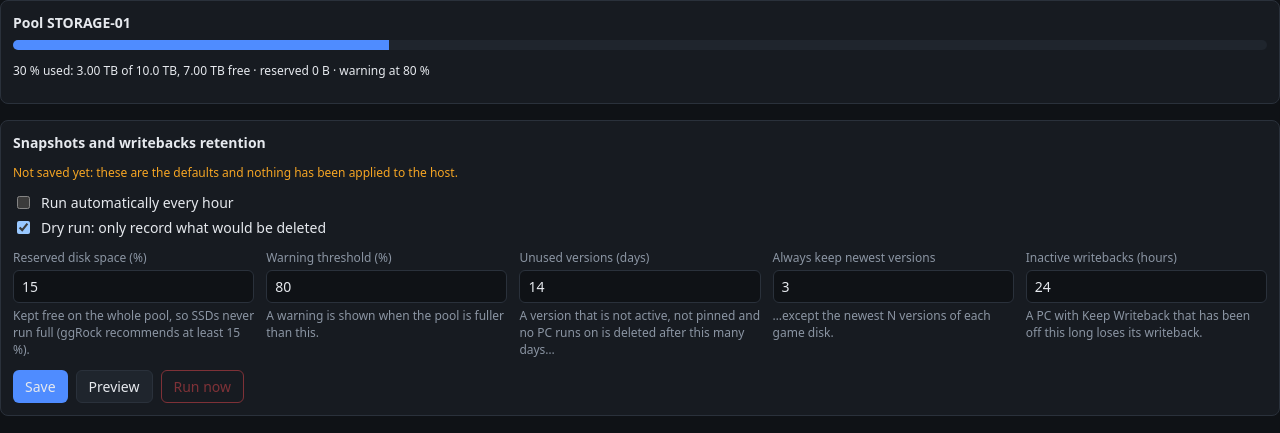
Test: SettingsPage › asks before reserving pool space and saves
The width and height of the screenshot is (1280, 433).
Click the checkbox labelled "Run automatically every hour" at point(24, 202), box [17,196,30,209]
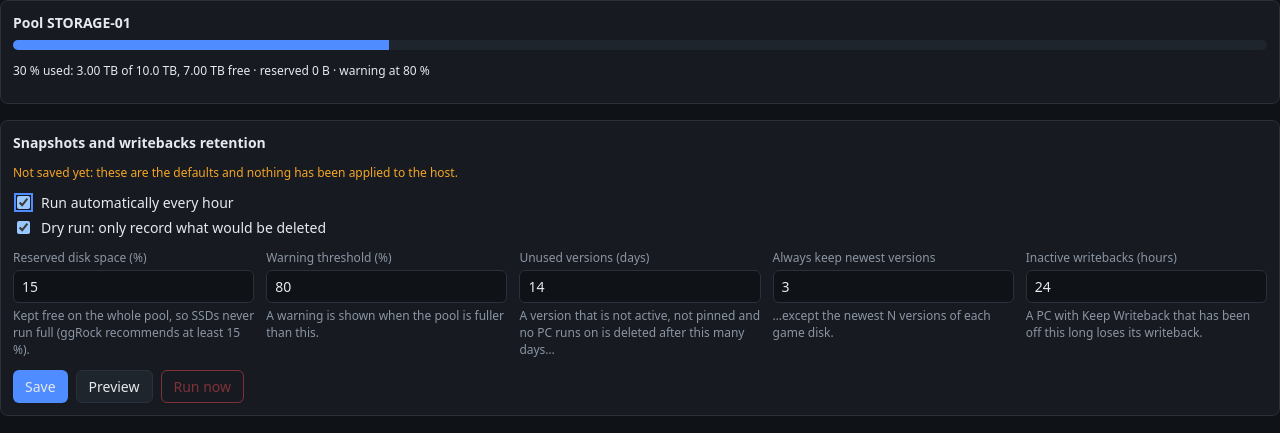
Click the button "Save" at point(40, 386), box [13,370,68,403]
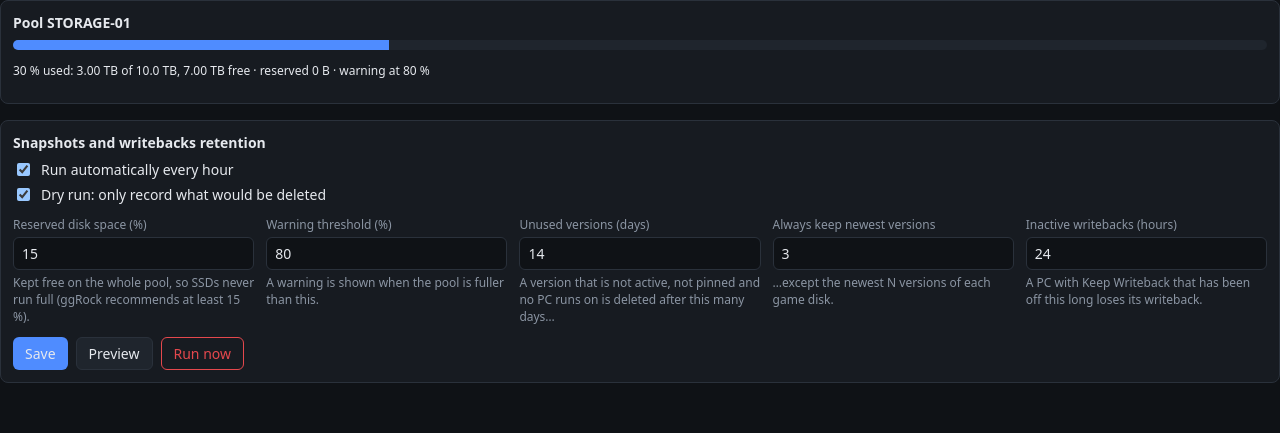
Expected: the button "Run now" is enabled, [160,337,244,370]
